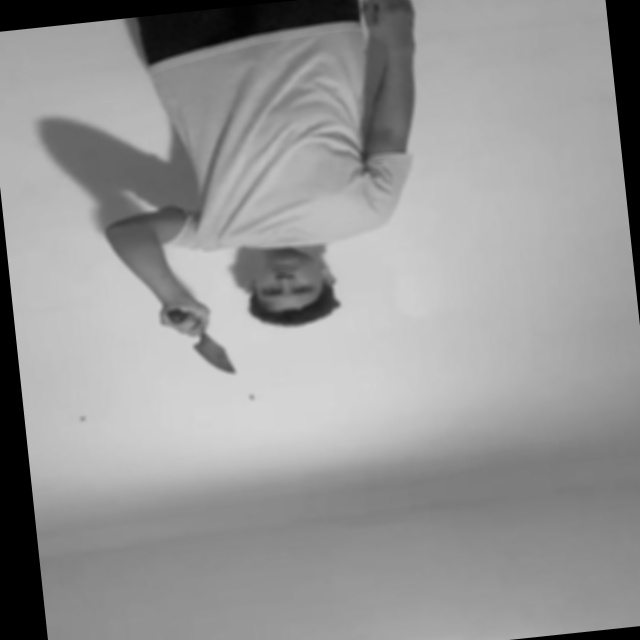Sharp-Object: (185, 330, 243, 378)
